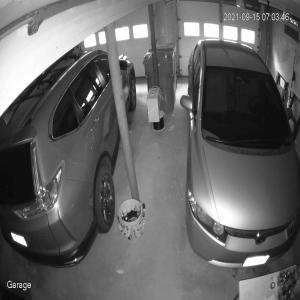garbage bin: (142, 43, 177, 111)
honda civic: (179, 38, 300, 267)
honda crv: (0, 48, 137, 269)
tool bucket: (116, 198, 146, 241)
